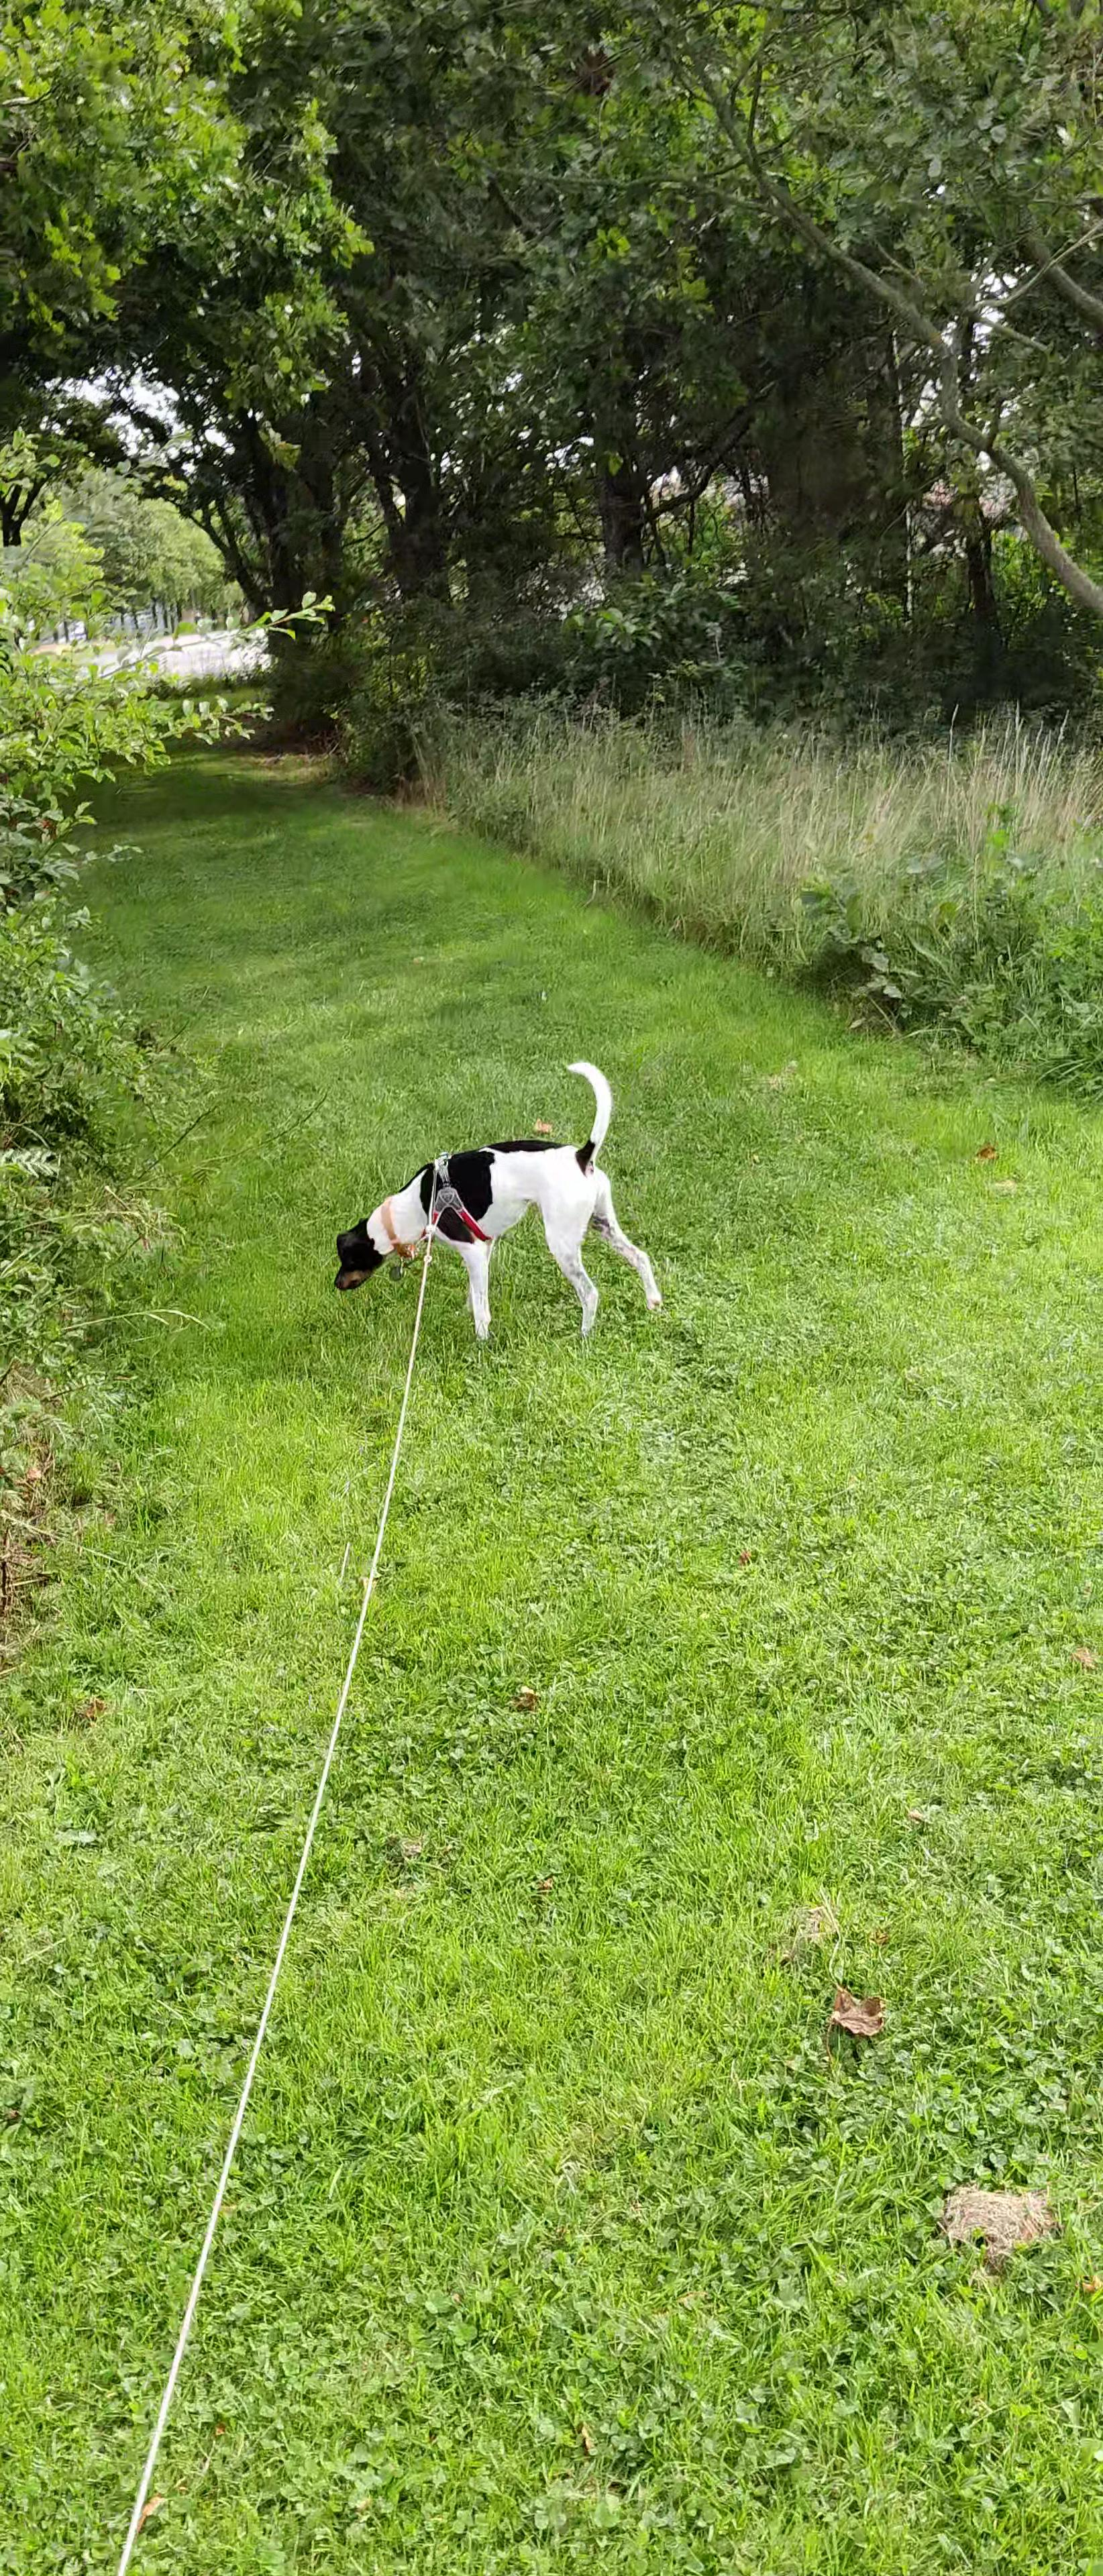Dog: (322, 1048, 667, 1352)
